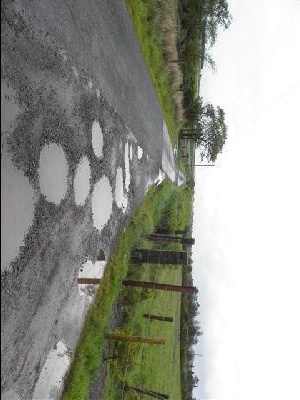pothole: (2, 142, 40, 283), (37, 140, 72, 208), (0, 73, 27, 140), (91, 173, 115, 231), (72, 154, 94, 207), (89, 117, 106, 161), (114, 166, 128, 213), (123, 139, 131, 190), (135, 145, 144, 161)
